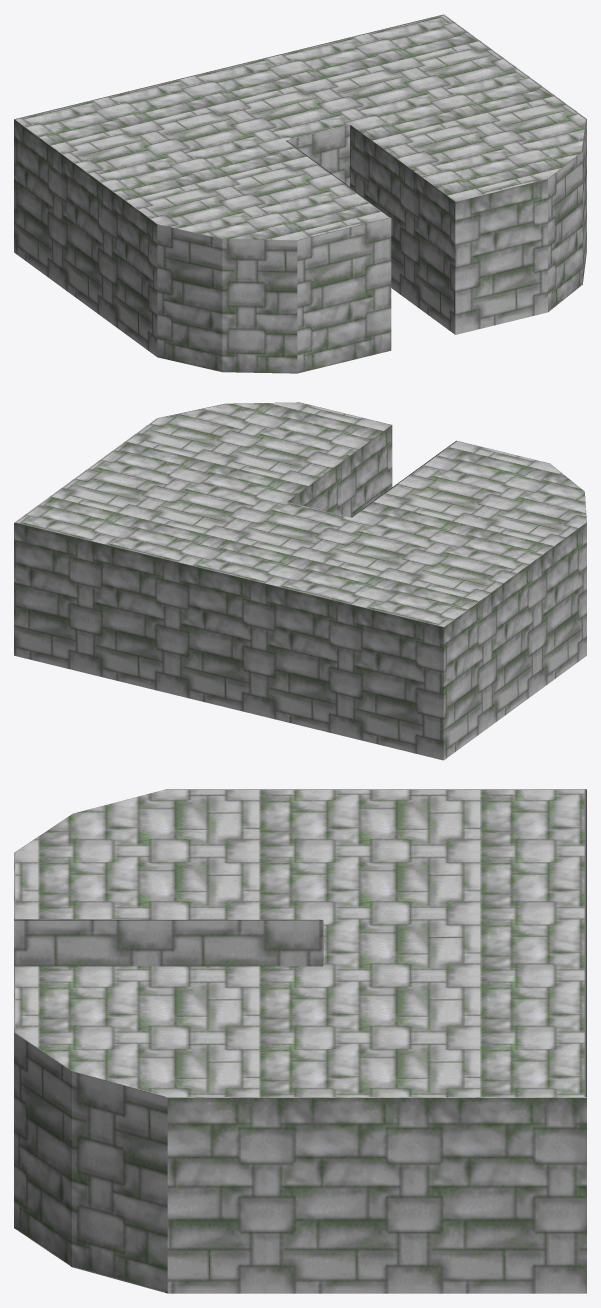
Rendered from tos_gy_bldg02.dae.
3 renders of one model, top to bottom at view 1: azimuth 30°, elevation 25°; view 2: azimuth 150°, elevation 25°; view 3: azimuth 270°, elevation 25°, orthographic. The views are drawn at different scales.
Visible parts, largest first — view 1: Plane; view 2: Plane; view 3: Plane.
Boxes of the visible parts, x1,y1,x2,y2 form: Plane: (14,14,586,373); Plane: (14,402,586,760); Plane: (14,789,586,1293).
Bounding box in the file's own units: 8.48 × 6.66 × 2.51.
1 material, 1 textured.
